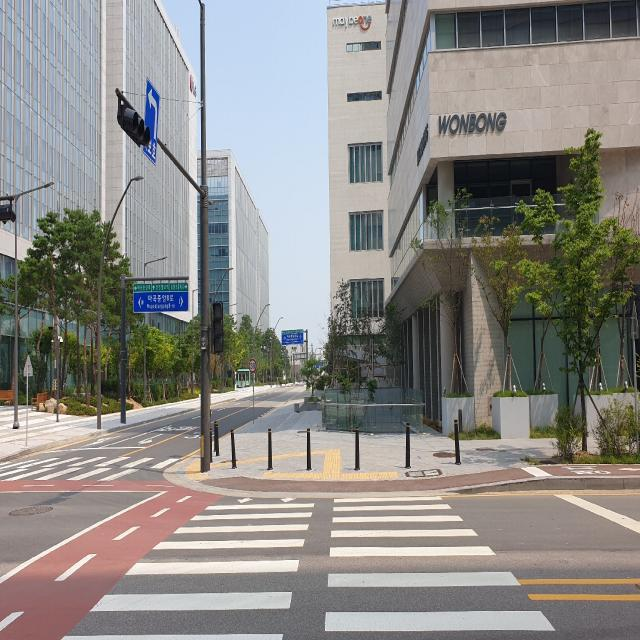횡단보도: (59, 493, 558, 637), (0, 445, 179, 485)
